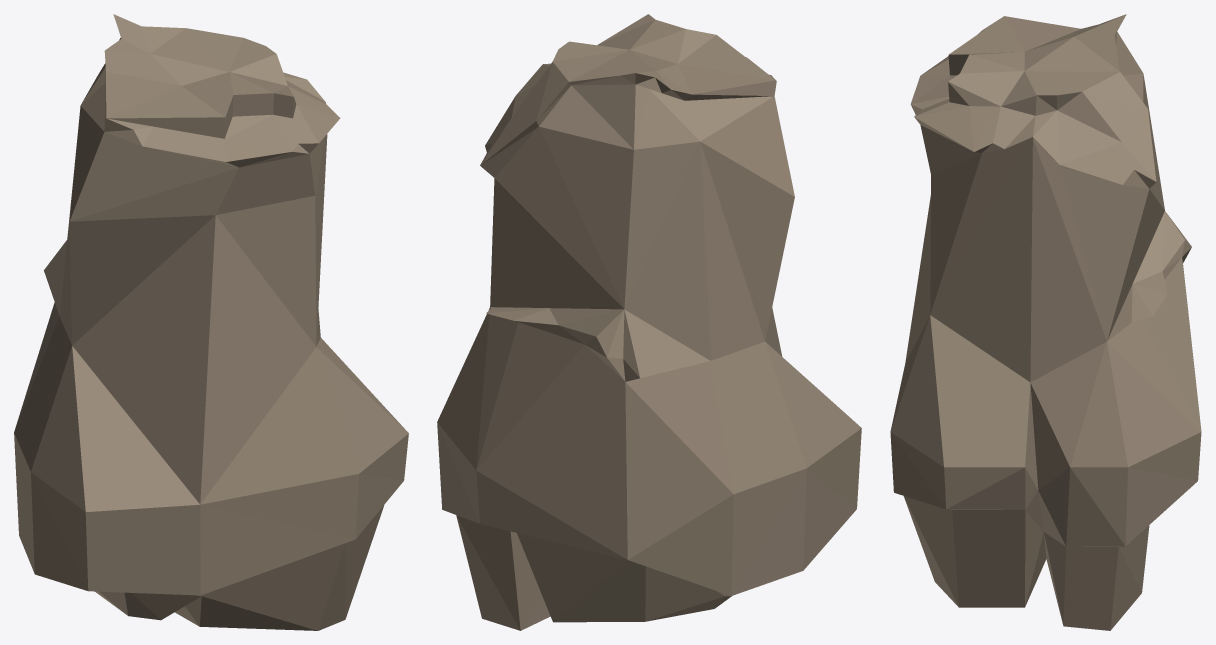
The model's file is SM_Env_Rock_04.fbx.
The picture shows the model from 3 angles, left to right: view 1: azimuth 30°, elevation 25°; view 2: azimuth 150°, elevation 25°; view 3: azimuth 270°, elevation 25°; orthographic projection. The views are drawn at different scales.
Parts seen in each view (by area): view 1: SM_Env_Rock_04; view 2: SM_Env_Rock_04; view 3: SM_Env_Rock_04.
Boxes of the visible parts, x1=… form: SM_Env_Rock_04: x1=14, y1=14, x2=408, y2=630; SM_Env_Rock_04: x1=437, y1=14, x2=861, y2=630; SM_Env_Rock_04: x1=890, y1=14, x2=1201, y2=630.
Bounding box in the file's own units: 0.0121 × 0.021 × 0.0109.
1 material, 1 textured.
